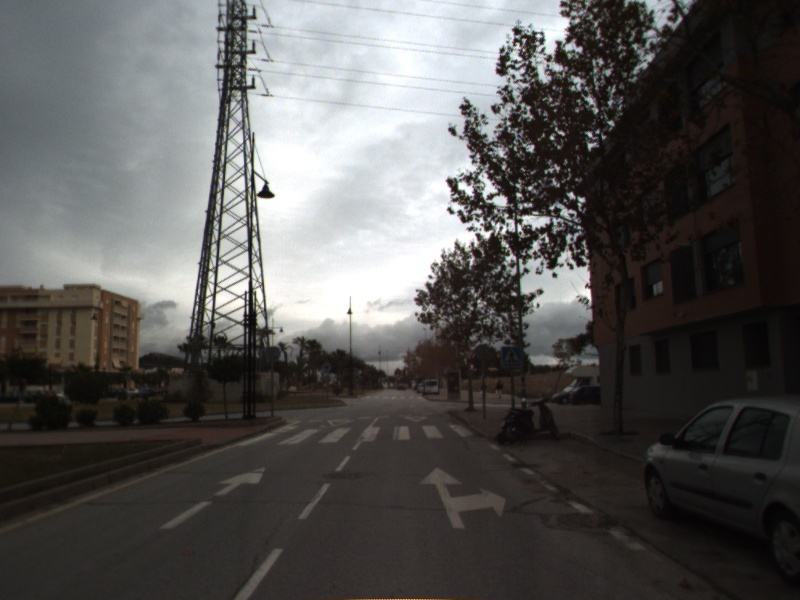STRAIGHT: (153, 462, 274, 534)
STRAIGHT_RIGHT: (416, 464, 508, 531)
